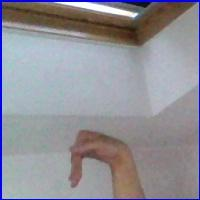del: (65, 128, 136, 190)
